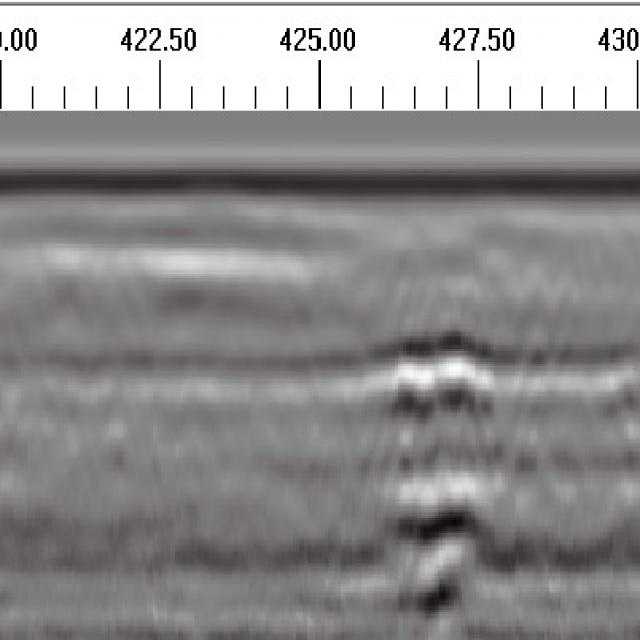loose: (377, 300, 507, 604)
